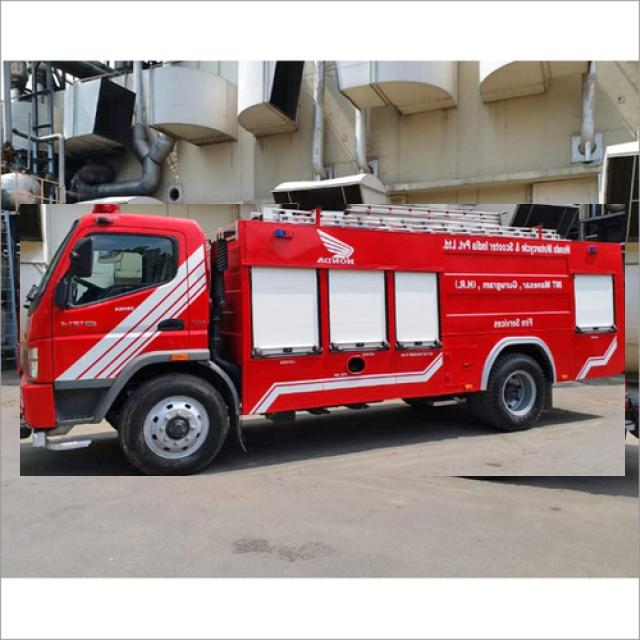emergency: (20, 205, 625, 476)
